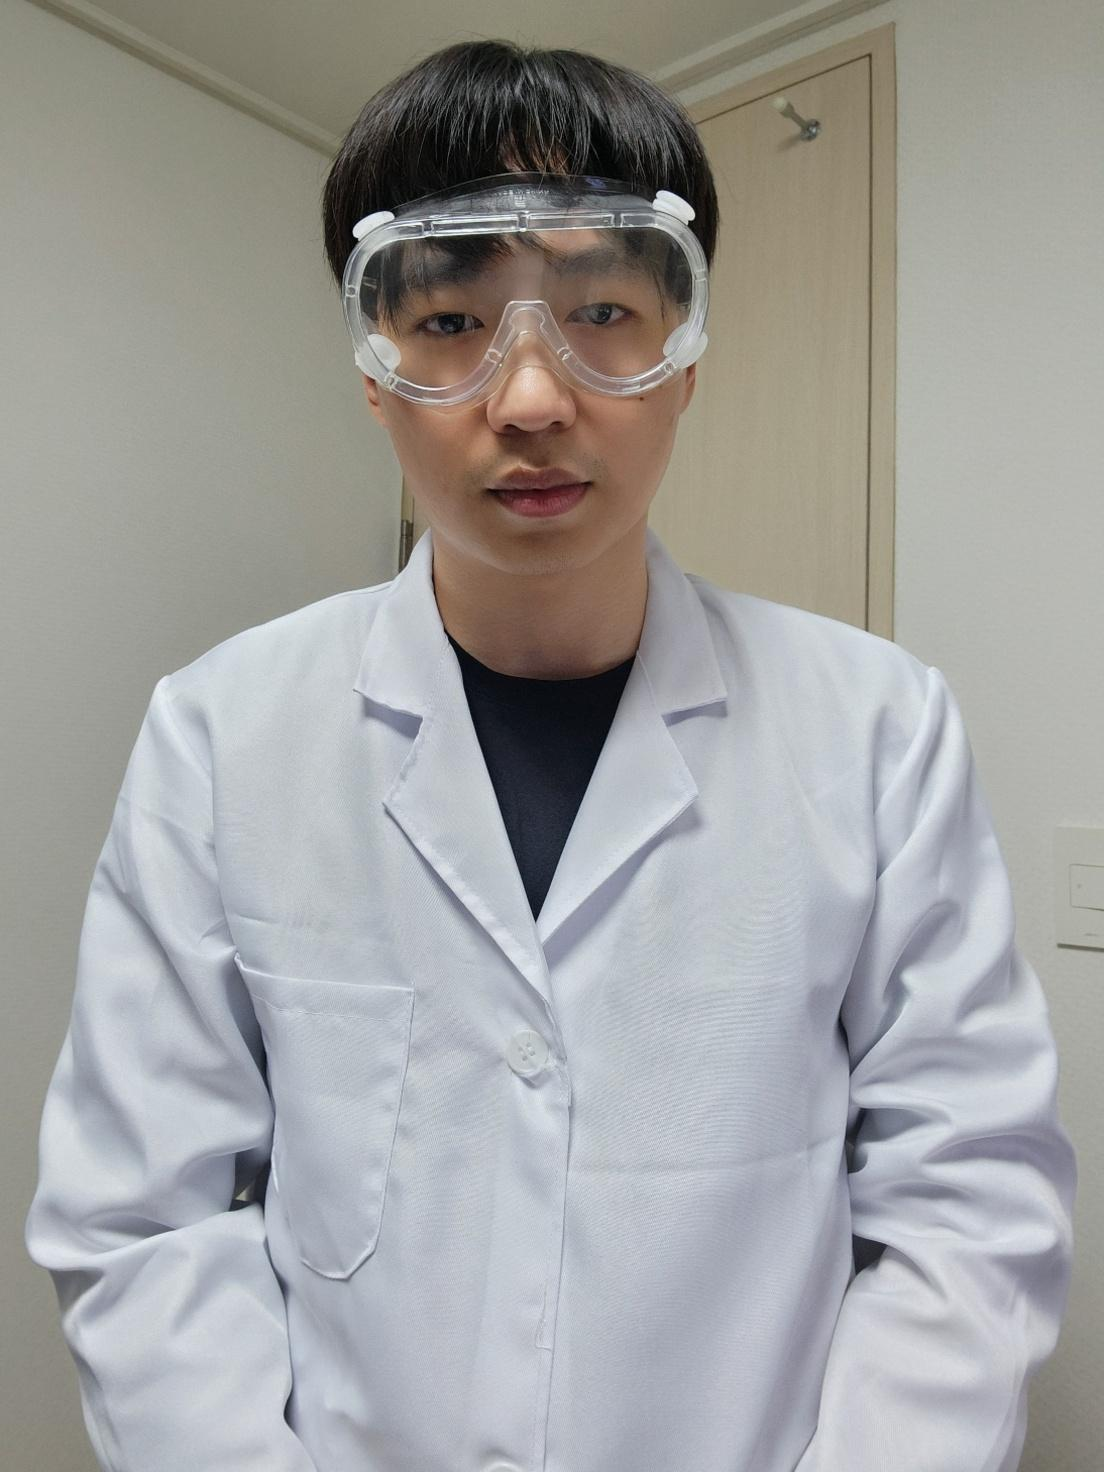lab_coat: (31, 526, 1075, 1472)
